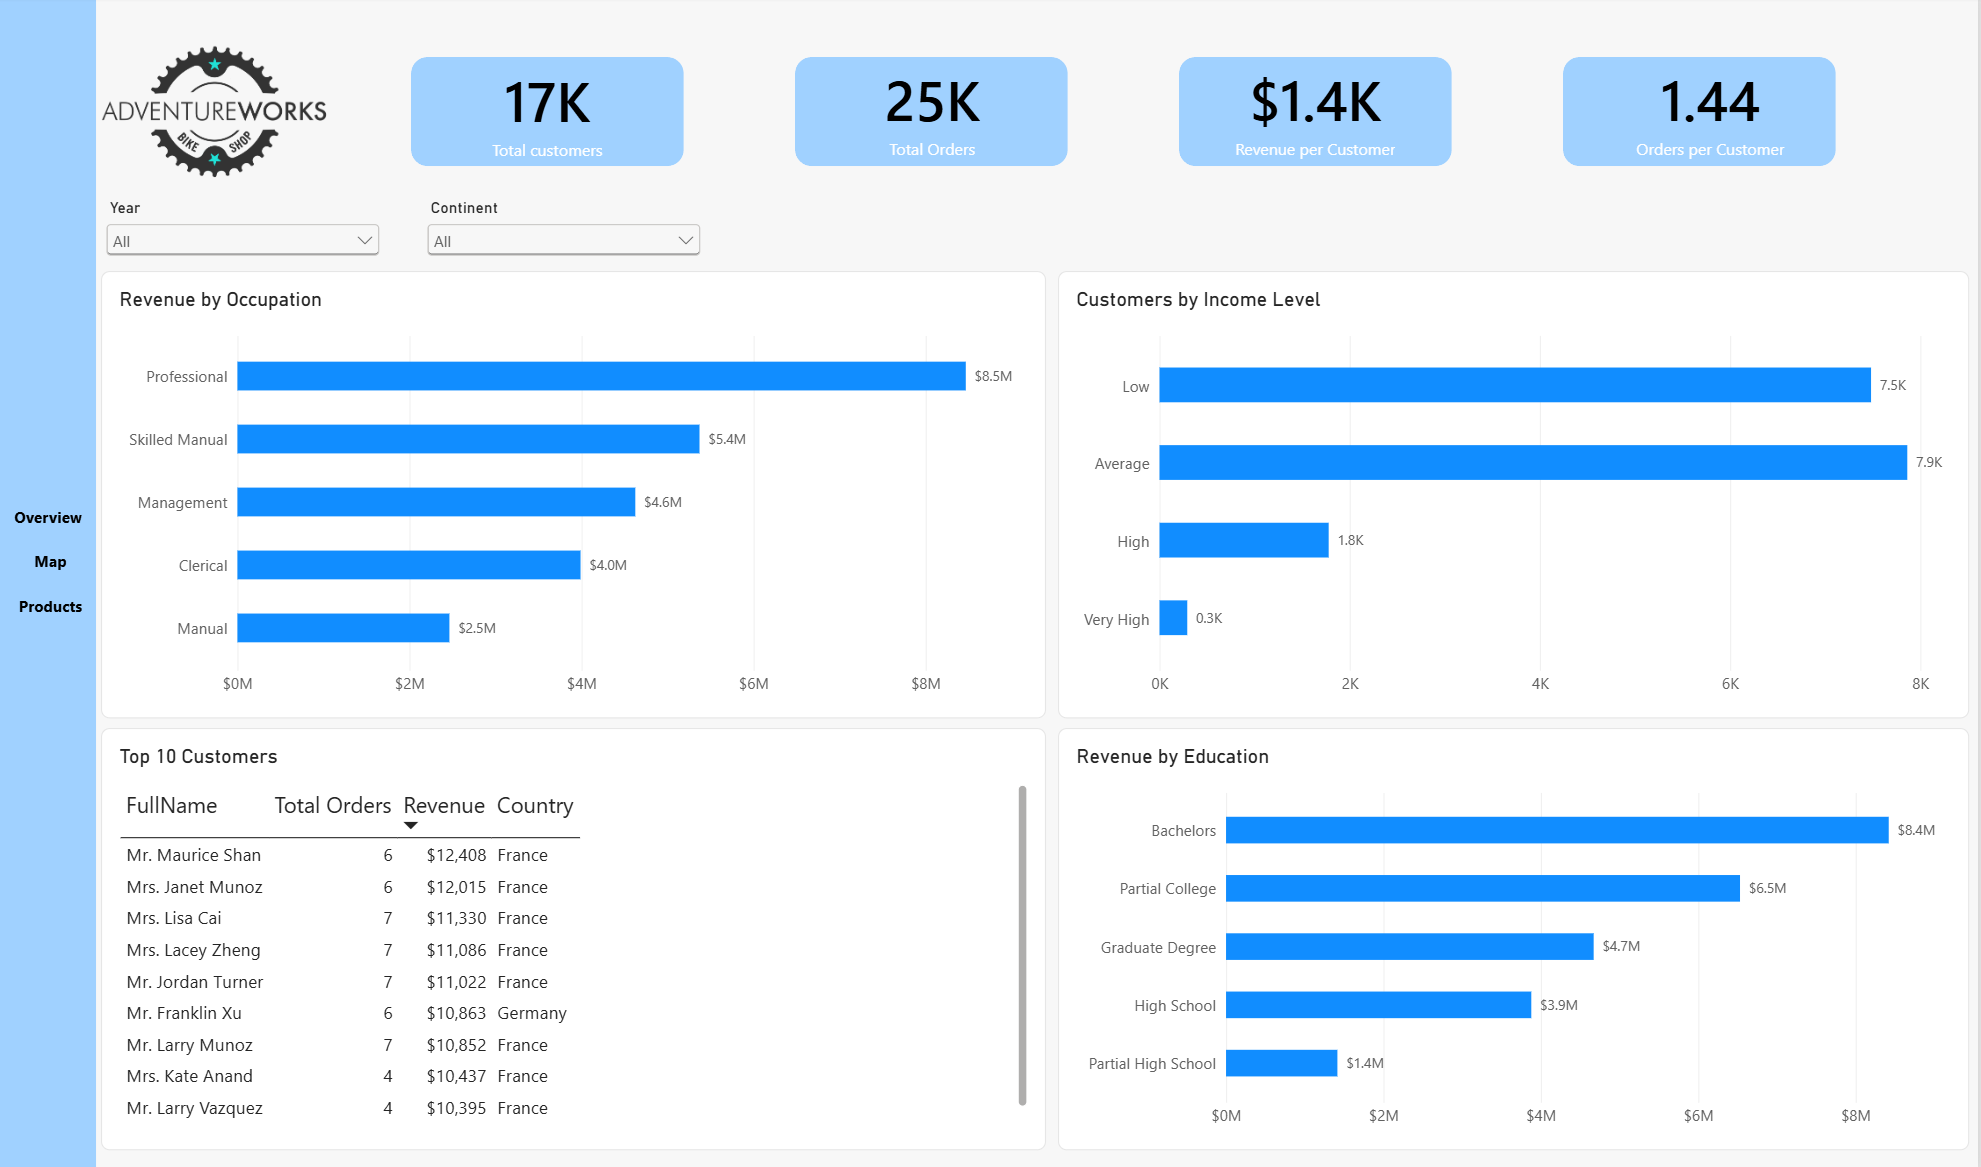

The dashboard page shown, as its layout file describes it:
{"tool":"powerbi","page":{"name":"customers","canvas":[1812,1074],"ordinal":3},"visuals":[{"type":"shape","box":[0,0,88.4,1079.7],"z":4000},{"type":"actionButton","box":[0,498,92.5,40.5],"z":5000},{"type":"actionButton","box":[0,458.5,88.4,39.5],"z":6000},{"type":"actionButton","box":[0,539.5,92.5,39.5],"z":7000},{"type":"image","box":[56.5,42.4,280.4,126.1],"z":7001},{"type":"shape","box":[377.1,55.2,250,100],"z":7002},{"type":"shape","box":[728.8,55.2,250,100],"z":7003},{"type":"shape","box":[1080.6,55.2,250,100],"z":7004},{"type":"shape","box":[1432.3,55.2,250,100],"z":7005},{"type":"cardVisual","fields":{"Data":["Table.Total customers"]},"box":[376.9,55.6,250,100],"z":7006},{"type":"cardVisual","fields":{"Data":["Table.Total Orders"]},"box":[729.2,55.2,250,100],"z":7007},{"type":"cardVisual","fields":{"Data":["Table.Revenue per Customer"]},"box":[1080.2,55.2,250,100],"z":7008},{"type":"cardVisual","fields":{"Data":["Table.Orders per Customer"]},"box":[1442.7,55.2,250,100],"z":7009},{"type":"barChart","title":"Revenue by Occupation","fields":{"Category":["Customer Lookup.Occupation"],"Y":["Table.Revenue"]},"box":[92.6,250.7,866.5,409.8],"z":7010},{"type":"slicer","fields":{"Values":["Calendar Lookup.Year"]},"box":[92.6,185.2,260,84.3],"z":7011},{"type":"barChart","title":"Customers by Income Level","fields":{"Category":["Customer Lookup.Income Level"],"Y":["Table.Total customers"]},"box":[969.5,250.7,835.3,409.8],"z":7013},{"type":"tableEx","title":"Top 10 Customers","fields":{"Values":["Customer Lookup.FullName","Table.Total Orders","Table.Revenue","Territory Lookup.Country"]},"box":[92.6,669.9,866.5,386.9],"z":7014},{"type":"barChart","title":"Revenue by Education","fields":{"Category":["Customer Lookup.EducationLevel"],"Y":["Table.Revenue"]},"box":[969.5,669.9,835.3,386.9],"z":7015},{"type":"slicer","fields":{"Values":["Territory Lookup.Continent"]},"box":[386.9,185.2,260,84.3],"z":7016}]}

Visuals, with their boxes on the page's 1812x1074 design canvas (x1, y1, x2, y2). These are canvas units, not pixel positions in the 1981x1167 screenshot, which may show the page scaled, cropped or inside an application window:
shape: (x1=0, y1=0, x2=88, y2=1080)
actionButton: (x1=0, y1=498, x2=92, y2=538)
actionButton: (x1=0, y1=458, x2=88, y2=498)
actionButton: (x1=0, y1=540, x2=92, y2=579)
image: (x1=56, y1=42, x2=337, y2=168)
shape: (x1=377, y1=55, x2=627, y2=155)
shape: (x1=729, y1=55, x2=979, y2=155)
shape: (x1=1081, y1=55, x2=1331, y2=155)
shape: (x1=1432, y1=55, x2=1682, y2=155)
cardVisual - Table.Total customers: (x1=377, y1=56, x2=627, y2=156)
cardVisual - Table.Total Orders: (x1=729, y1=55, x2=979, y2=155)
cardVisual - Table.Revenue per Customer: (x1=1080, y1=55, x2=1330, y2=155)
cardVisual - Table.Orders per Customer: (x1=1443, y1=55, x2=1693, y2=155)
"Revenue by Occupation" barChart: (x1=93, y1=251, x2=959, y2=660)
slicer - Calendar Lookup.Year: (x1=93, y1=185, x2=353, y2=270)
"Customers by Income Level" barChart: (x1=970, y1=251, x2=1805, y2=660)
"Top 10 Customers" tableEx: (x1=93, y1=670, x2=959, y2=1057)
"Revenue by Education" barChart: (x1=970, y1=670, x2=1805, y2=1057)
slicer - Territory Lookup.Continent: (x1=387, y1=185, x2=647, y2=270)
